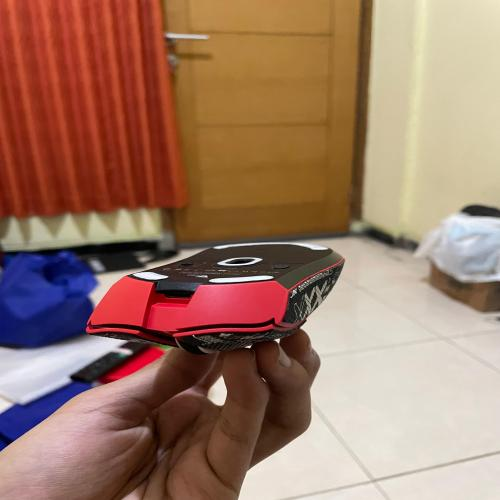Mouse: (79, 233, 357, 363)
